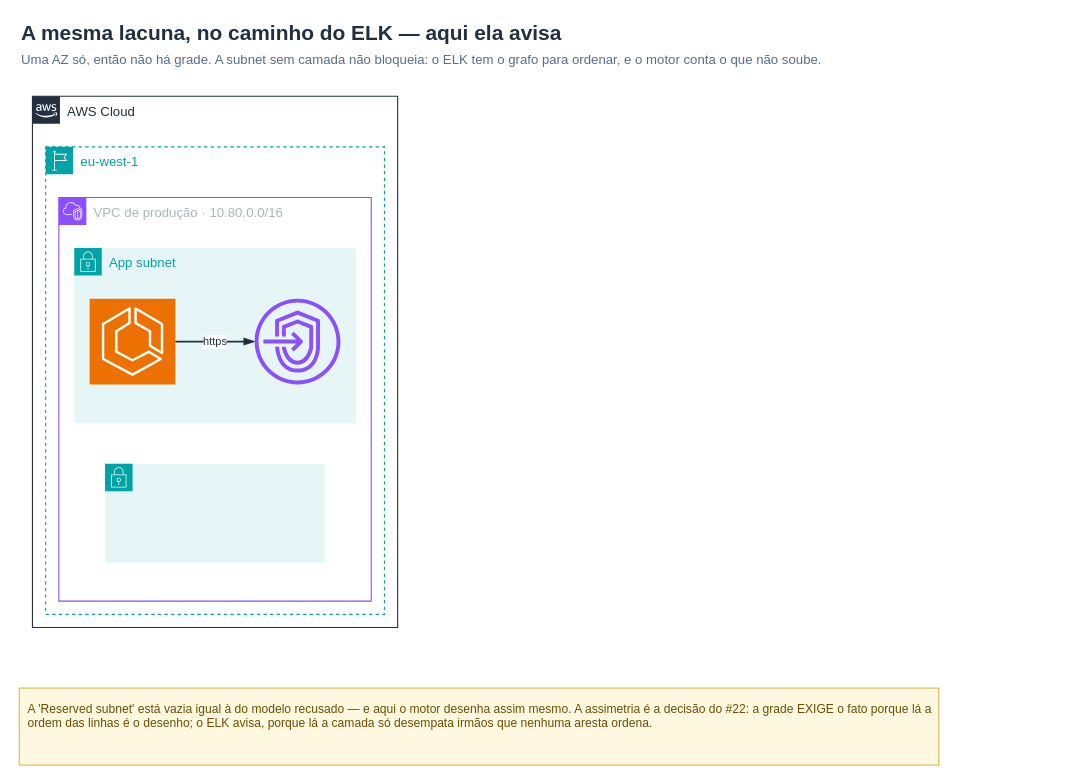
The diagram is 1086 pixels wide and 784 high, and some of its shapes have lost their labels. The shapes that lost their labels are listed below. From the top down, each one's centre as x and y in pixels, then its label:
At [132,341]: "API".
At [297,341]: "VPC endpoint".
At [214,513]: "Reserved subnet".
